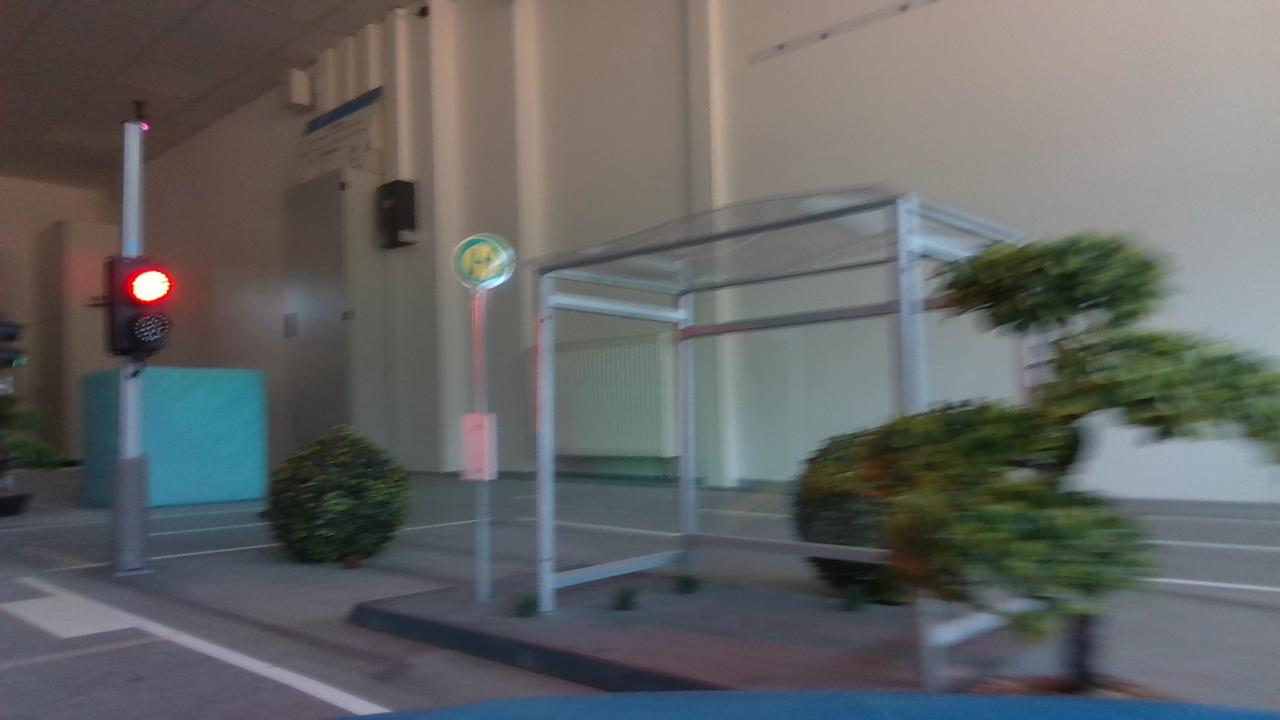traffic_light_red: (91, 242, 186, 374)
